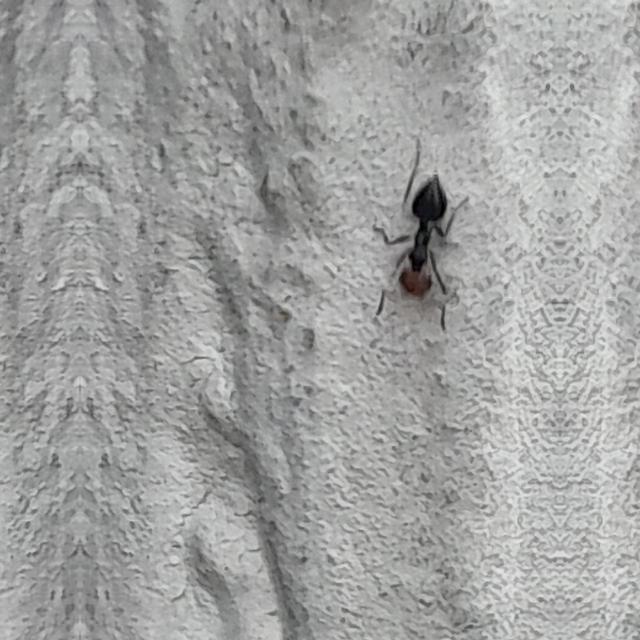Crematogaster: (382, 168, 458, 310)
